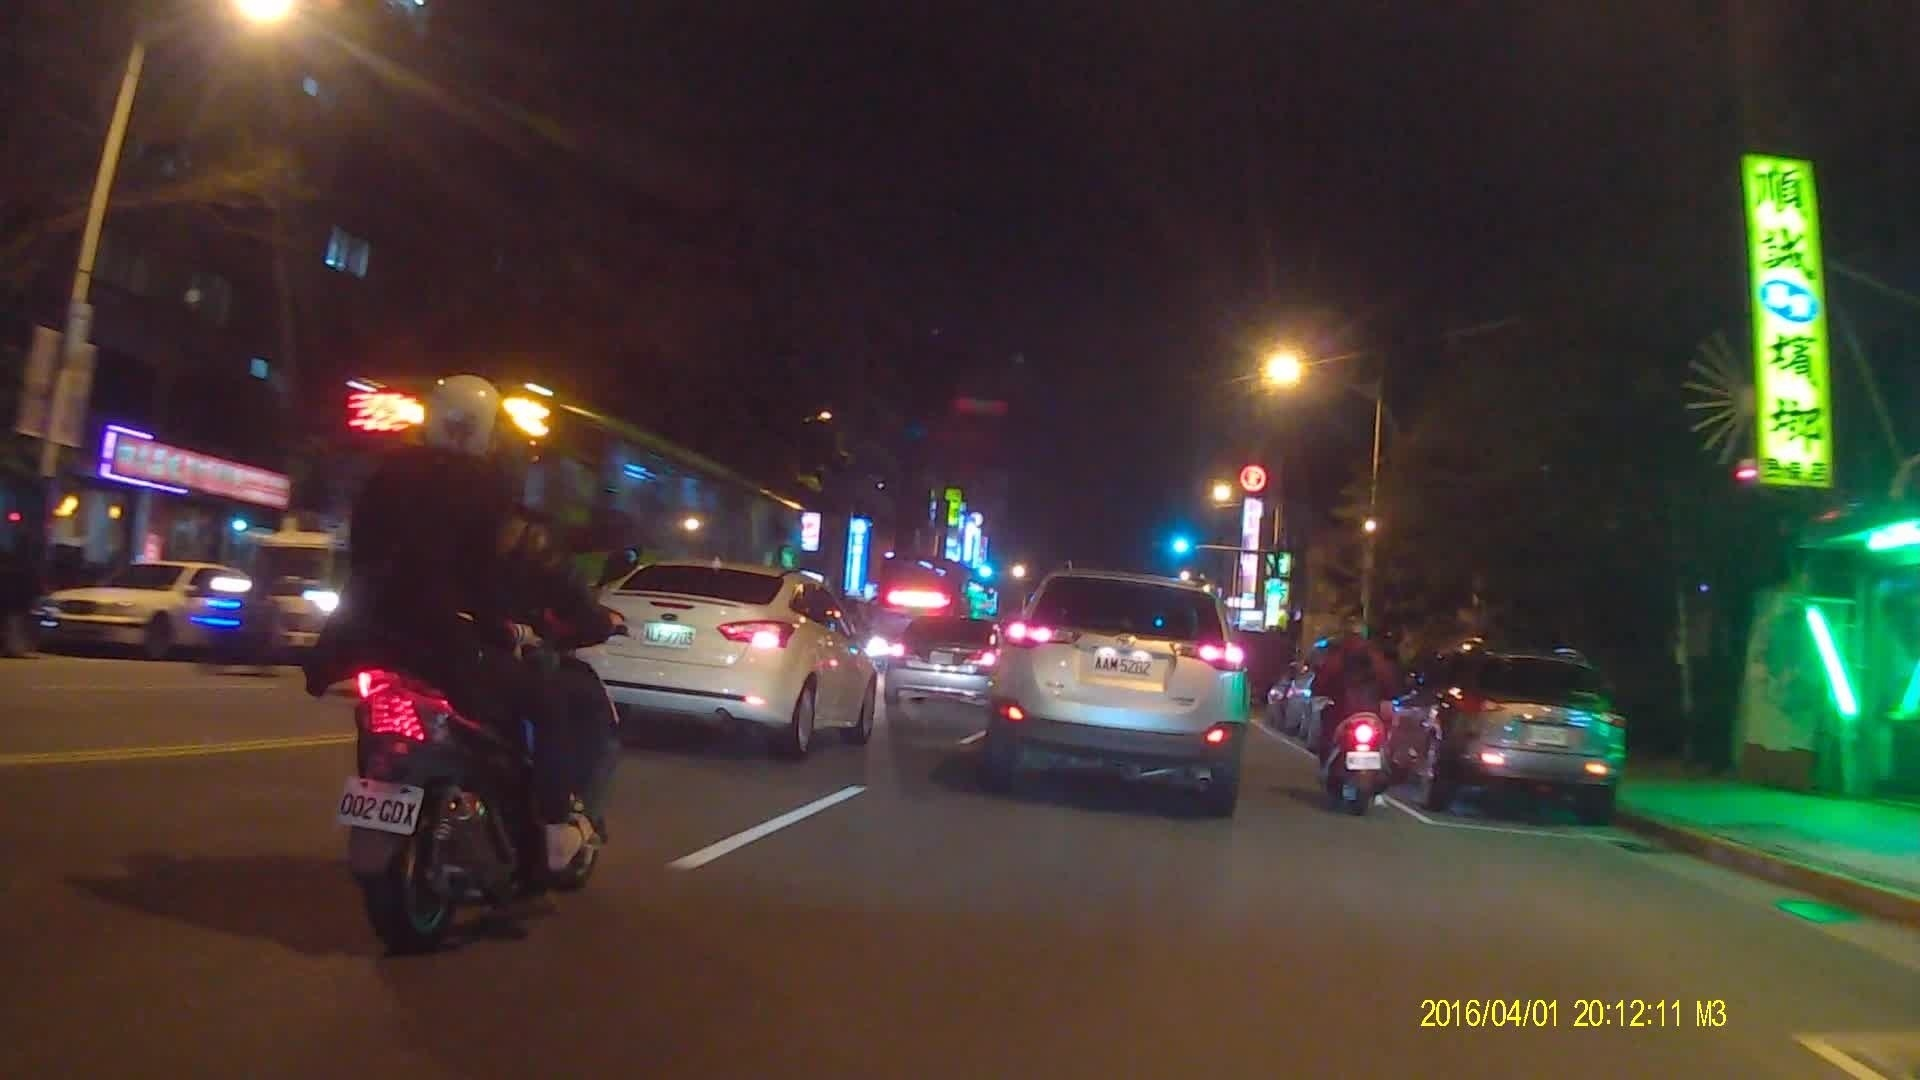License_plate: (338, 771, 423, 837), (1092, 648, 1151, 678), (1530, 720, 1576, 752), (644, 623, 698, 648), (1344, 748, 1380, 773)
